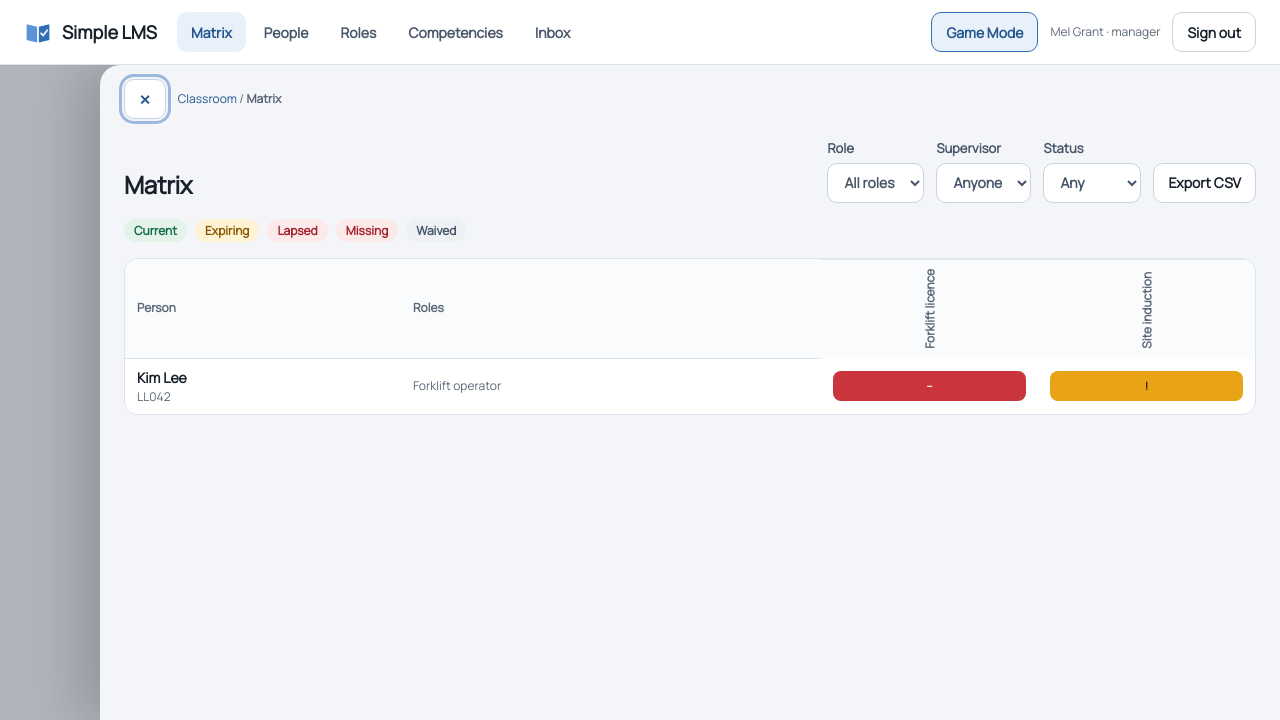
Test case: the matrix › says so when the CSV can't be made
Expected: the button named "Kim Lee, Forklift licence" is shown, x1=833 y1=371 x2=1026 y2=401
Click the button "Export CSV" at coordinates (1205, 182), box x1=1153 y1=162 x2=1256 y2=202
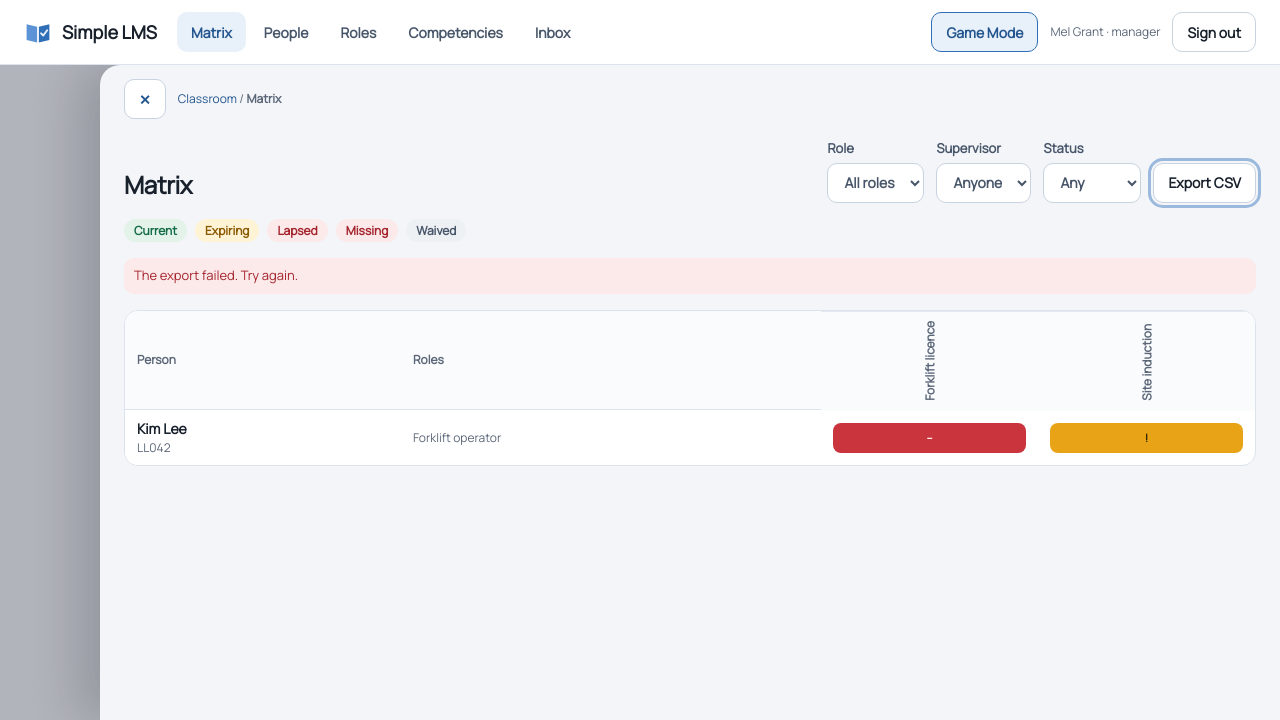
Result: the message reads "The export failed. Try again." at x1=134 y1=266 x2=298 y2=284
